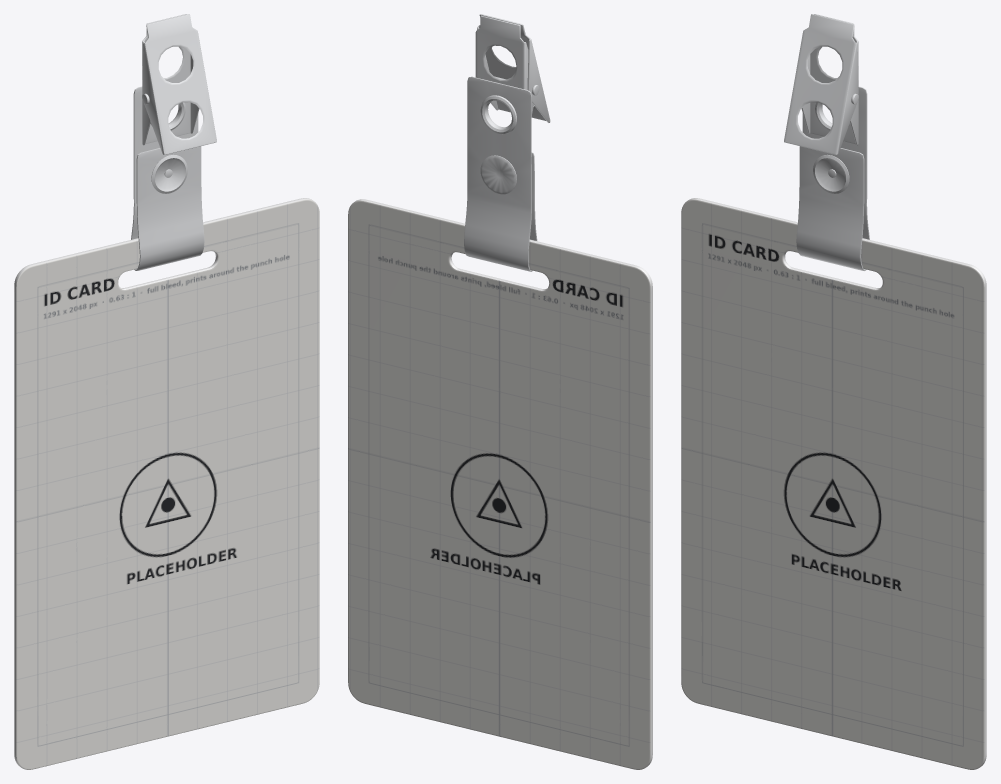
File: id-card.glb
3 renders of one model, left to right at view 1: azimuth 30°, elevation 25°; view 2: azimuth 150°, elevation 25°; view 3: azimuth 330°, elevation 25°, orthographic.
Visible parts, largest first — view 1: Object_2; view 2: Object_2; view 3: Object_2.
Boxes of the visible parts, left/top/right/bottom form: Object_2: left=14, top=14, right=319, bottom=769; Object_2: left=348, top=14, right=652, bottom=769; Object_2: left=681, top=14, right=986, bottom=769.
Size of the model in its own units: 2.13 by 4.82 by 0.3475.
Materials: 4 (2 with a texture image).
